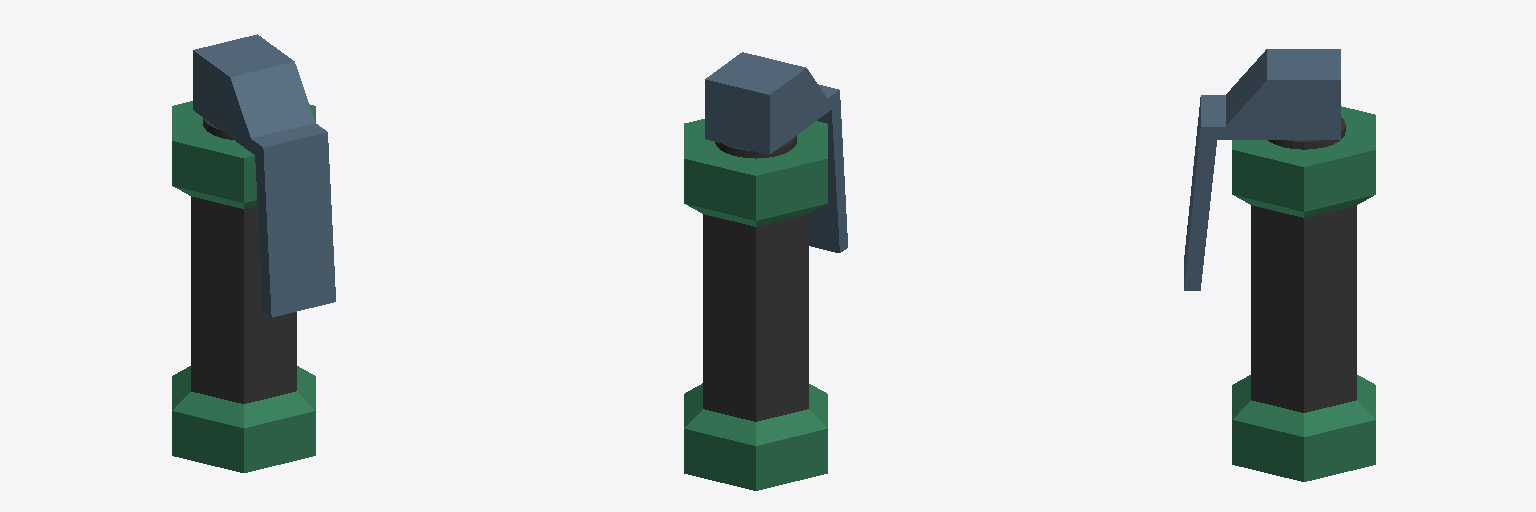
Rendered from grenadeFlash.obj.
3 renders of one model, left to right at view 1: azimuth 30°, elevation 25°; view 2: azimuth 150°, elevation 25°; view 3: azimuth 270°, elevation 25°, orthographic.
Visible parts, largest first — view 1: grenadeFlash, grip; view 2: grenadeFlash, grip; view 3: grenadeFlash, grip.
Part boxes in pixels (bbox=[...]): grenadeFlash: bbox=[172, 101, 315, 472]; grip: bbox=[193, 34, 335, 317]; grenadeFlash: bbox=[684, 119, 827, 490]; grip: bbox=[705, 52, 847, 252]; grenadeFlash: bbox=[1232, 106, 1375, 481]; grip: bbox=[1184, 49, 1340, 290].
Size of the model in its own units: 0.0766 by 0.1952 by 0.0887.